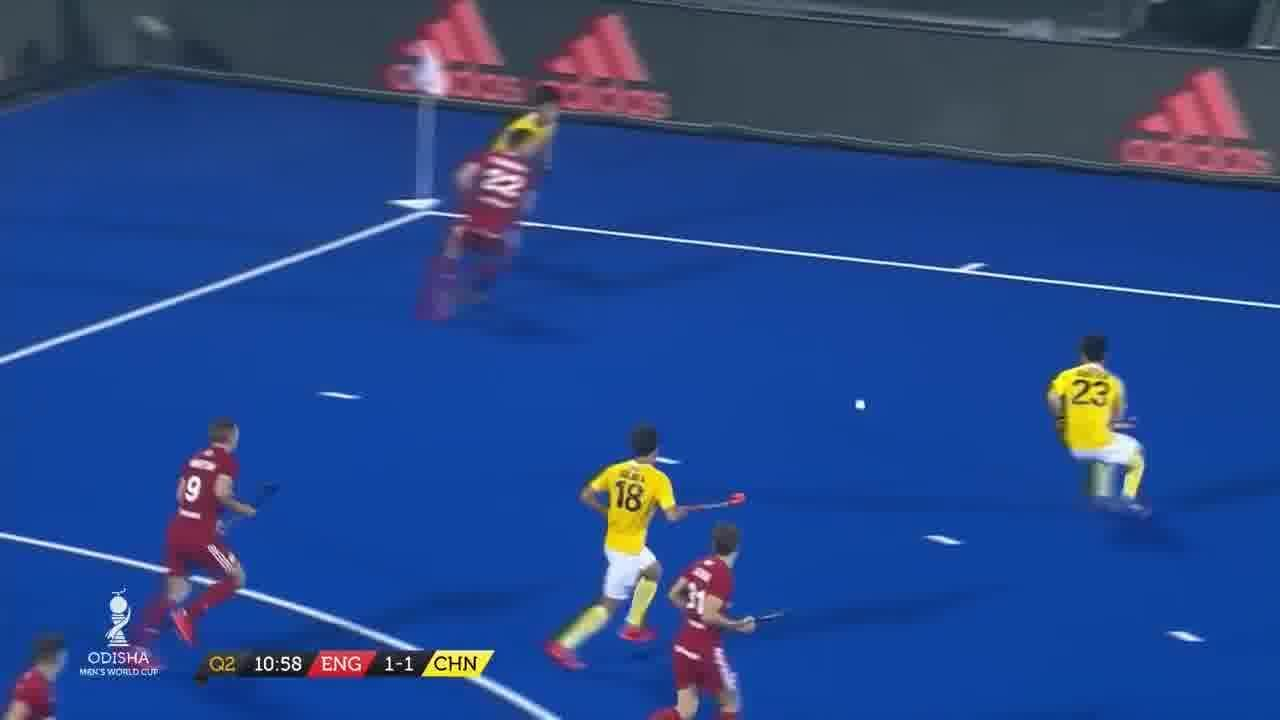ball: (854, 398, 871, 415)
